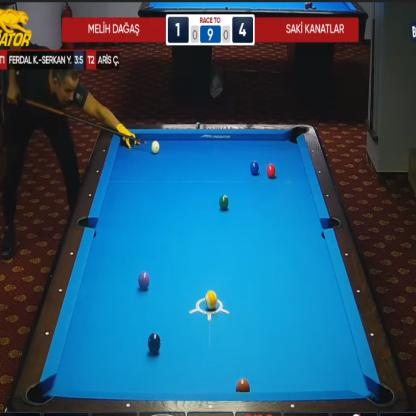Ball: (148, 332, 162, 354), (138, 271, 150, 291), (205, 290, 217, 310), (235, 378, 250, 392), (218, 194, 229, 210), (250, 160, 259, 176), (150, 140, 160, 154), (266, 164, 276, 178)
